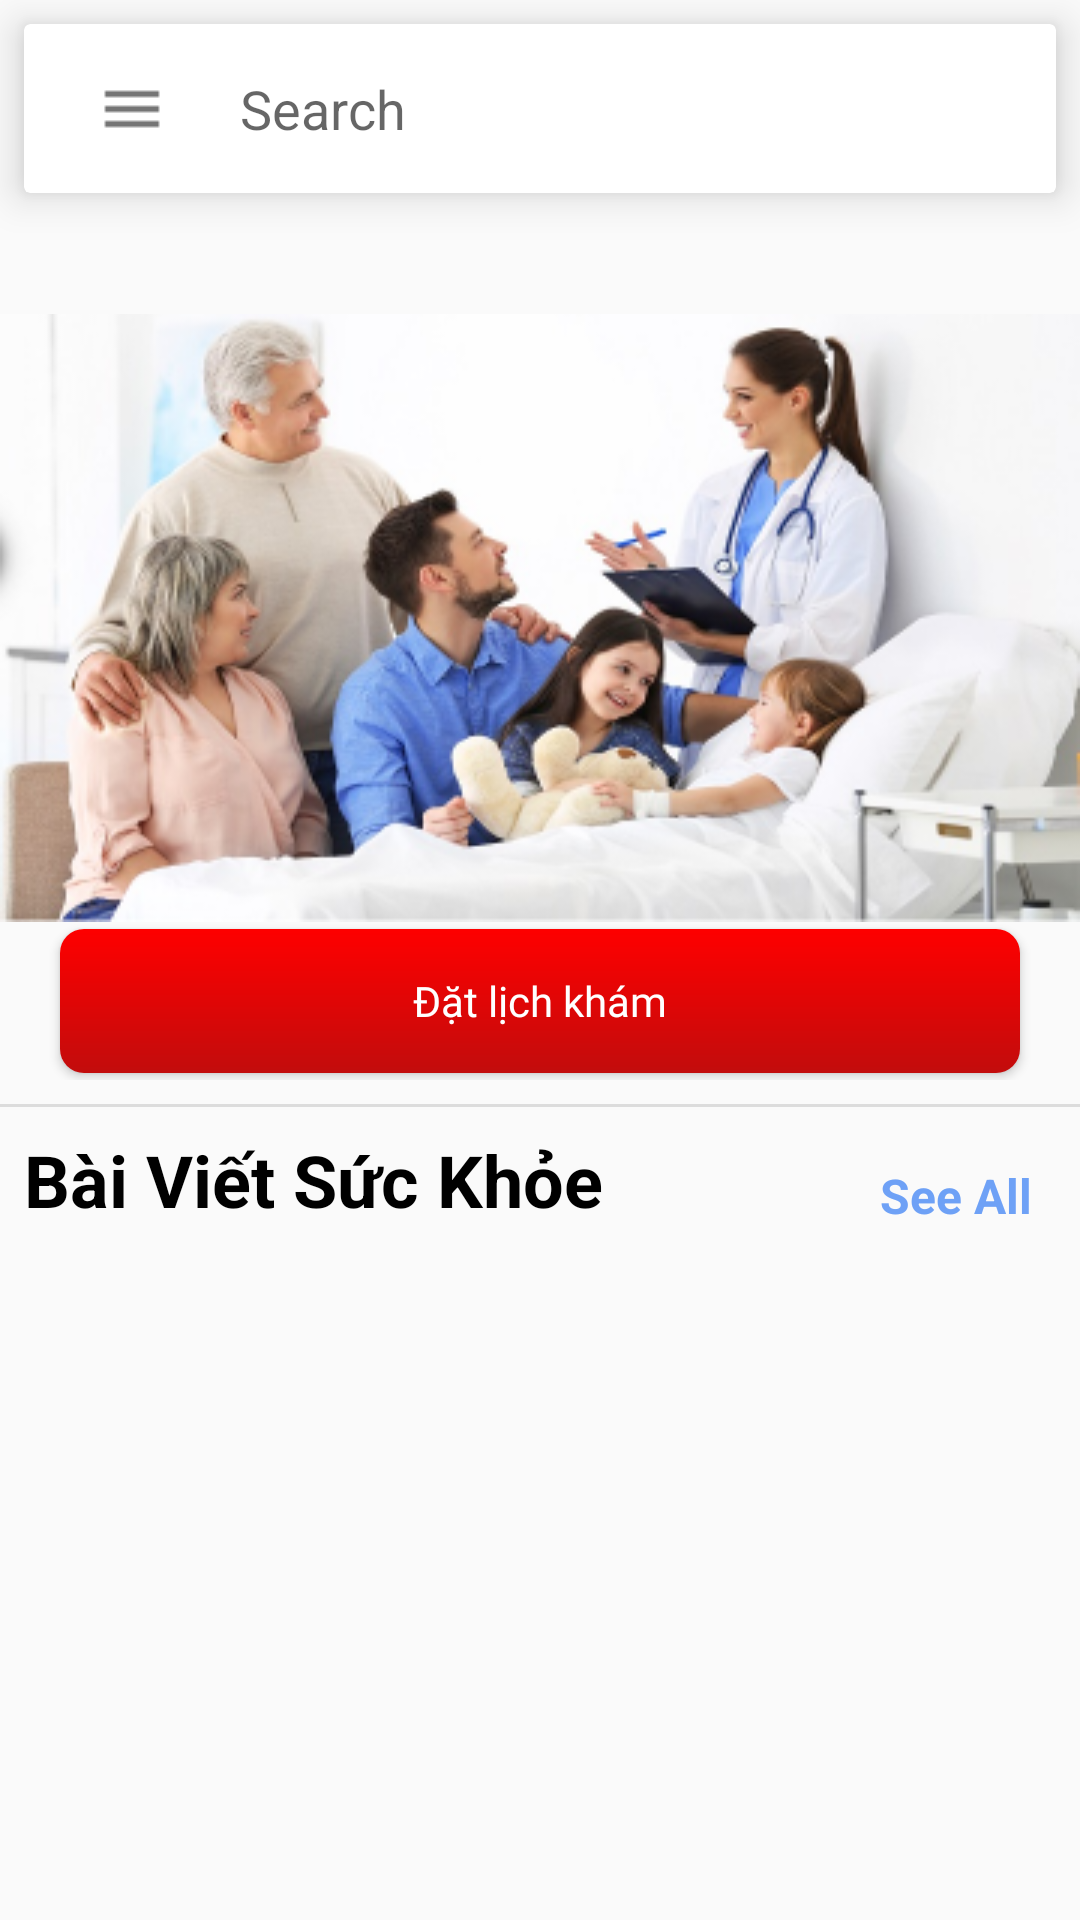

Where icons sit on this 1080w x 1920h app screen, as {"left": x1, "top": y1, "right": x2, "bottom": y2}:
more gach: {"left": 104, "top": 90, "right": 160, "bottom": 128}
